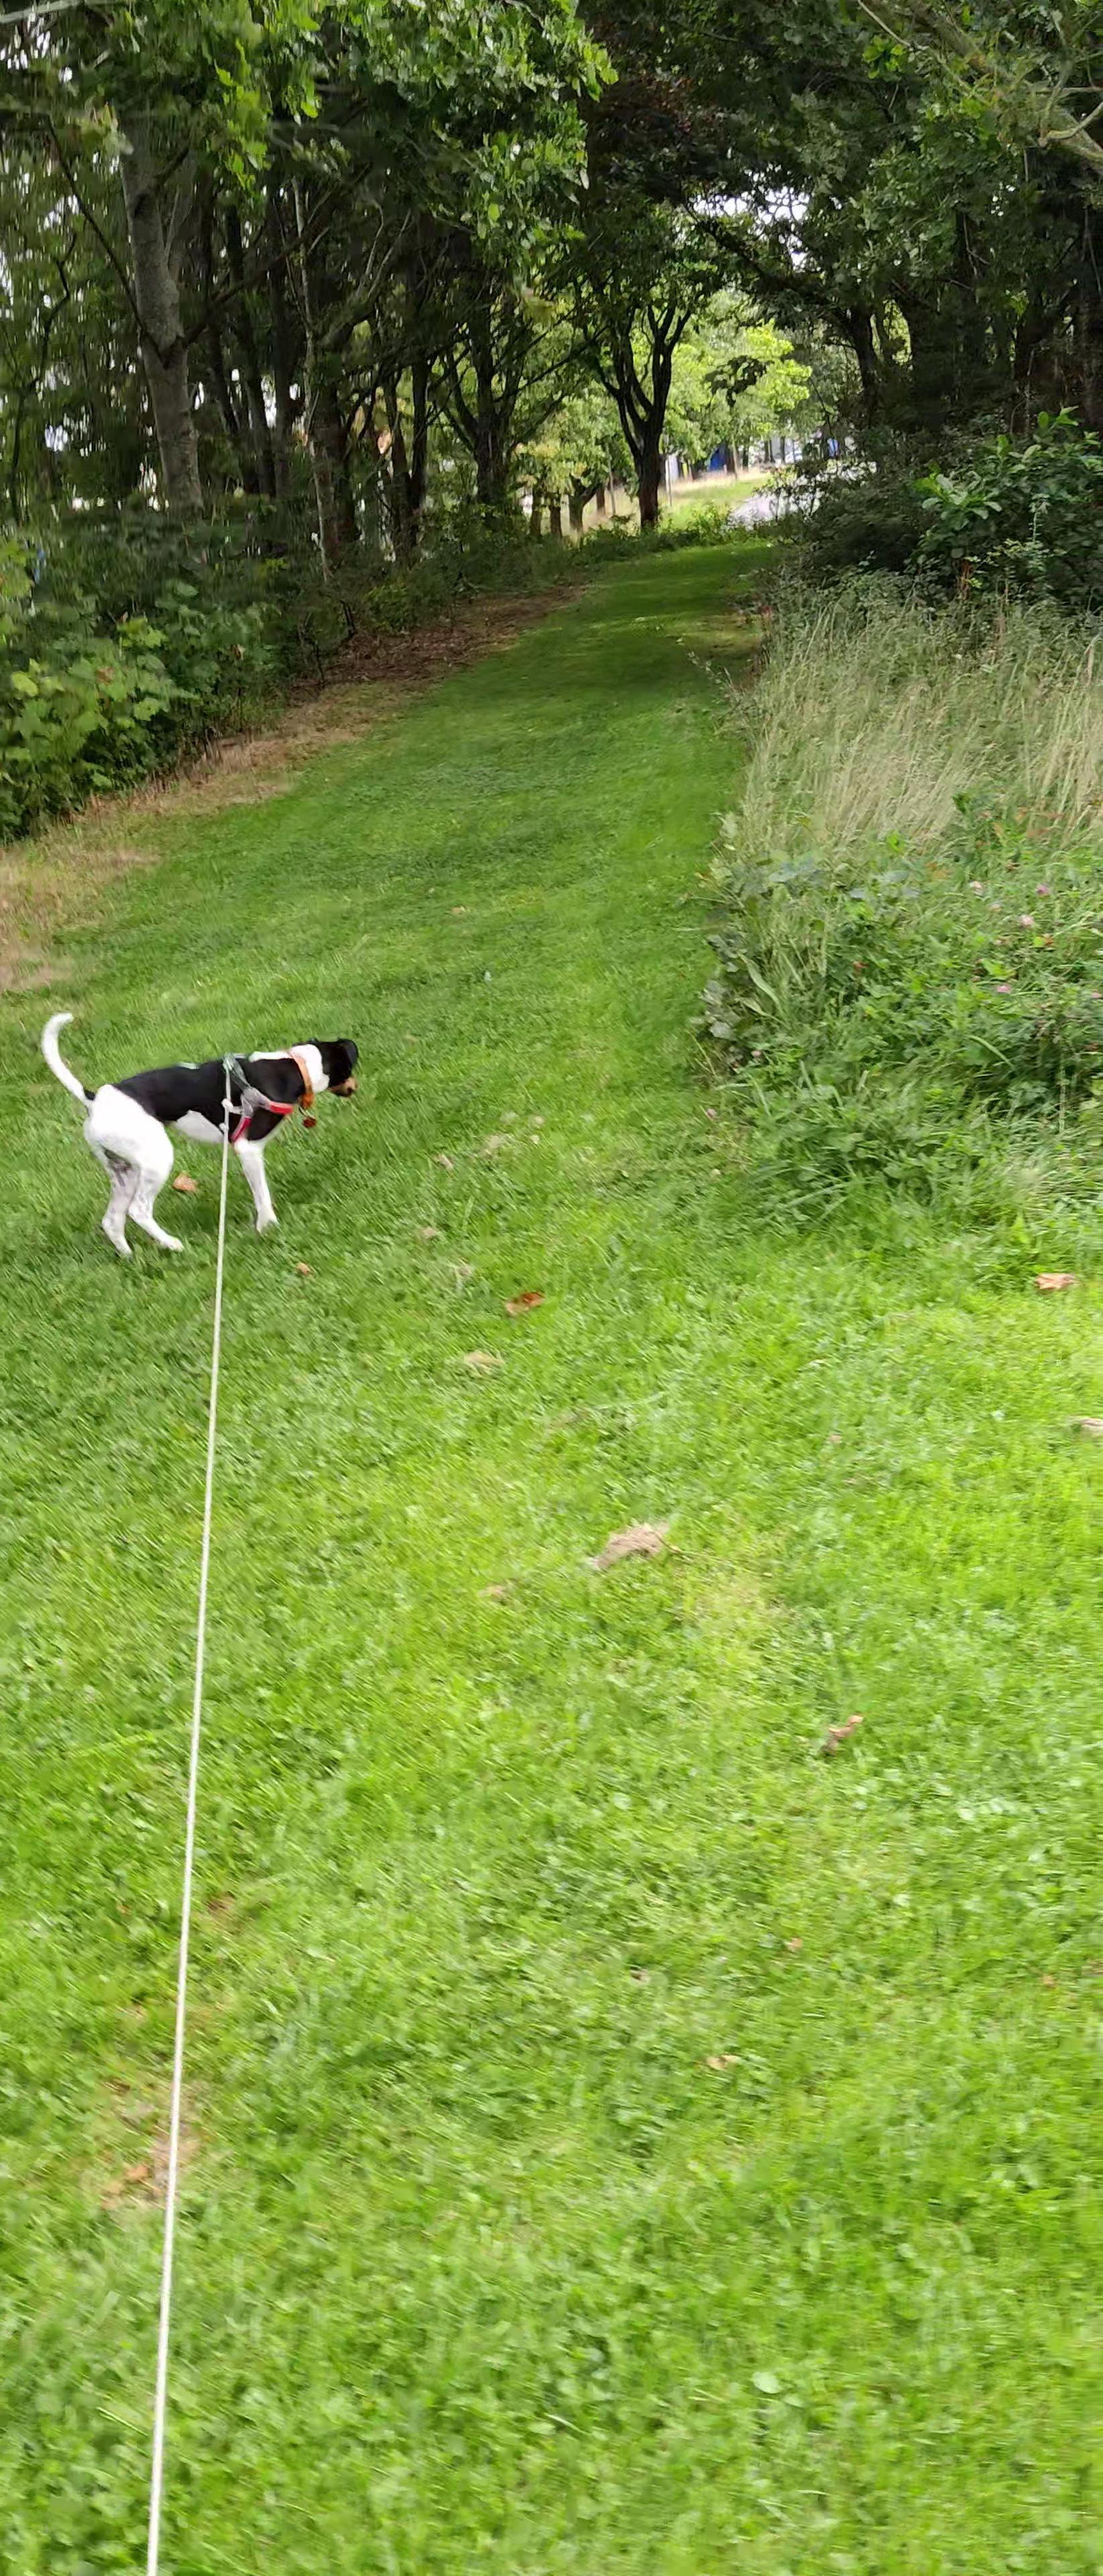Dog: (28, 996, 372, 1275)
